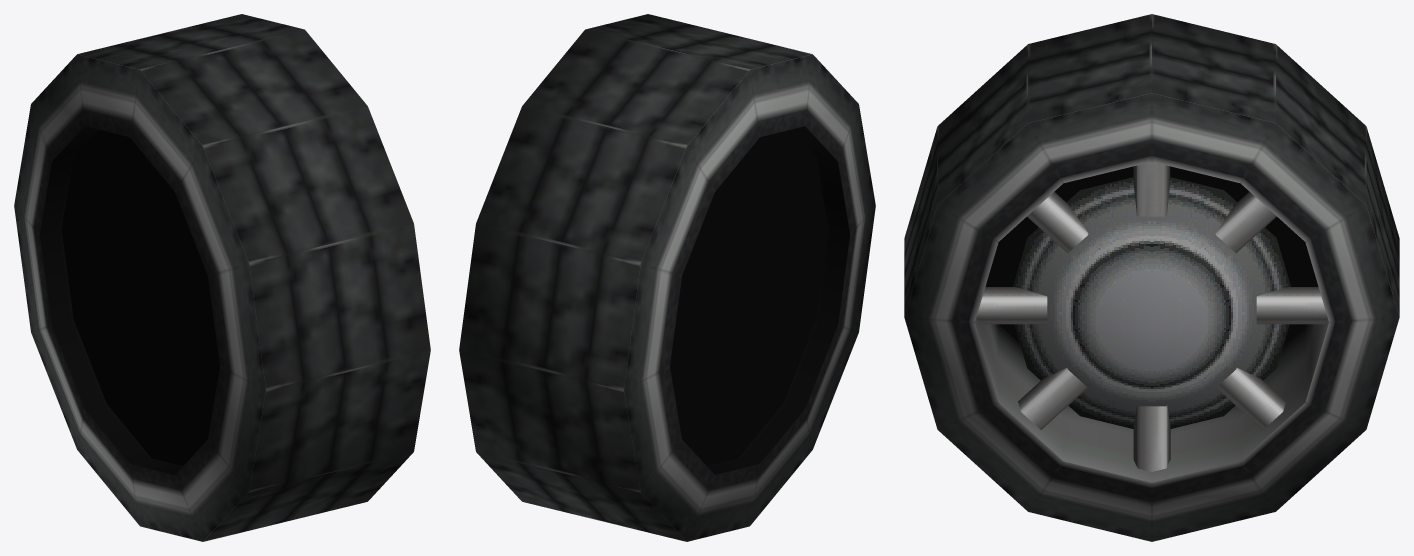
File: DefaultWheel_washing.glb
The picture shows the model from 3 angles, left to right: view 1: azimuth 30°, elevation 25°; view 2: azimuth 150°, elevation 25°; view 3: azimuth 270°, elevation 25°; orthographic projection.
Parts seen in each view (by area): view 1: wheel; view 2: wheel; view 3: wheel.
Part boxes in pixels (x1,y1,x2,y2): wheel: [14, 14, 430, 541]; wheel: [459, 14, 875, 541]; wheel: [904, 14, 1399, 541].
Size of the model in its own units: 0.3092 by 0.6627 by 0.6627.
Materials: 4 (3 with a texture image).
